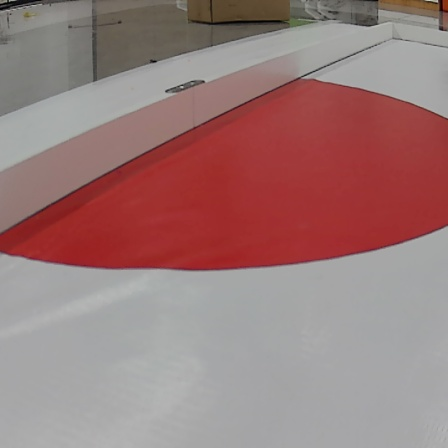red_base: (3, 81, 448, 275)
